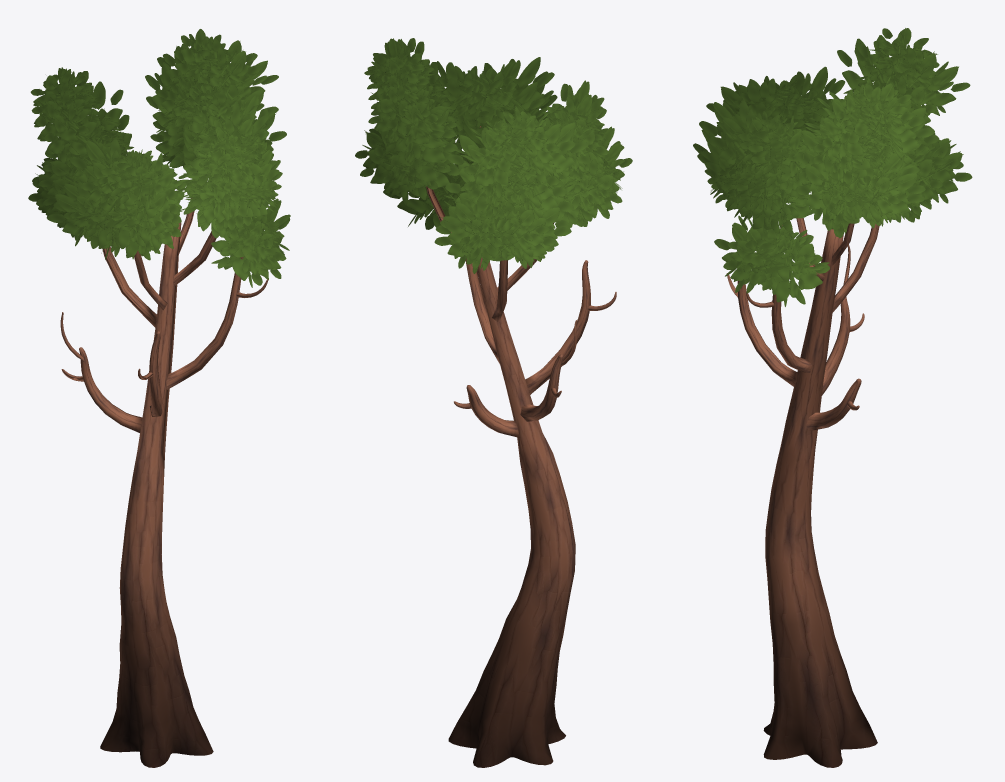
File: Broadleaf_1.glb
3 views of the same model, side by side, from view 1: azimuth 30°, elevation 25°; view 2: azimuth 150°, elevation 25°; view 3: azimuth 270°, elevation 25° (orthographic). The views are drawn at different scales.
Parts seen in each view (by area): view 1: CommonTree_4; view 2: CommonTree_4; view 3: CommonTree_4.
Part boxes in pixels (bbox=[...]): CommonTree_4: bbox=[28, 29, 290, 767]; CommonTree_4: bbox=[355, 38, 632, 767]; CommonTree_4: bbox=[693, 28, 972, 767].
Bounding box in the file's own units: 3.83 × 9.44 × 3.76.
Materials: 2 (2 with a texture image).
